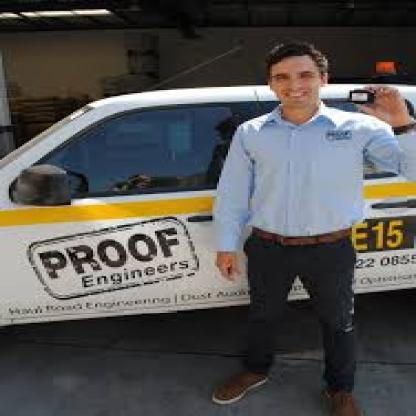person: (161, 22, 414, 414)
